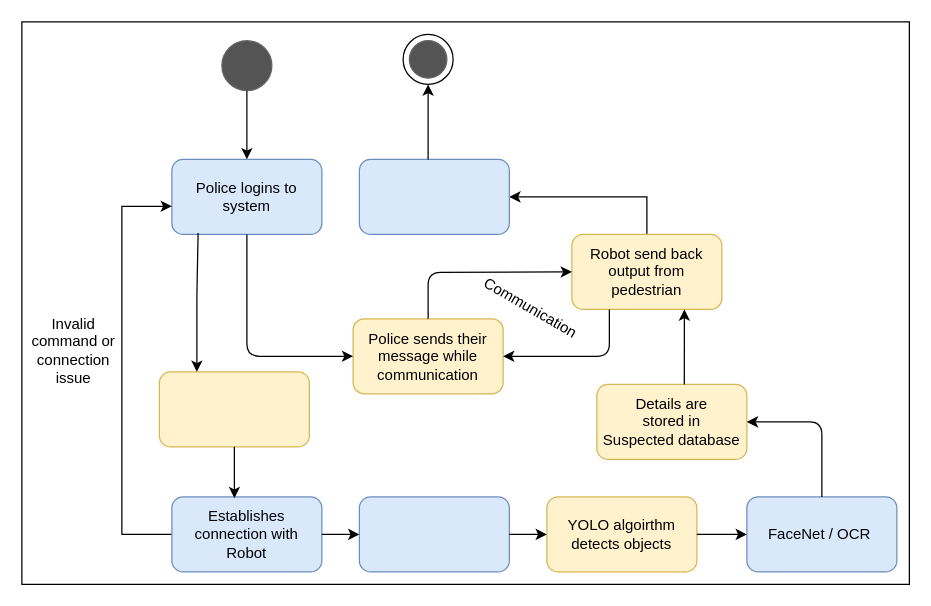
This 931x606 diagram has some shape labels left out. Each missing label, with the centre of its shape:
"Police interacts with pedestrians" goes at (433,196).
"Robot's cameras captures images" goes at (433,534).
"sends appropriate commands with specific inputs" goes at (233,409).
